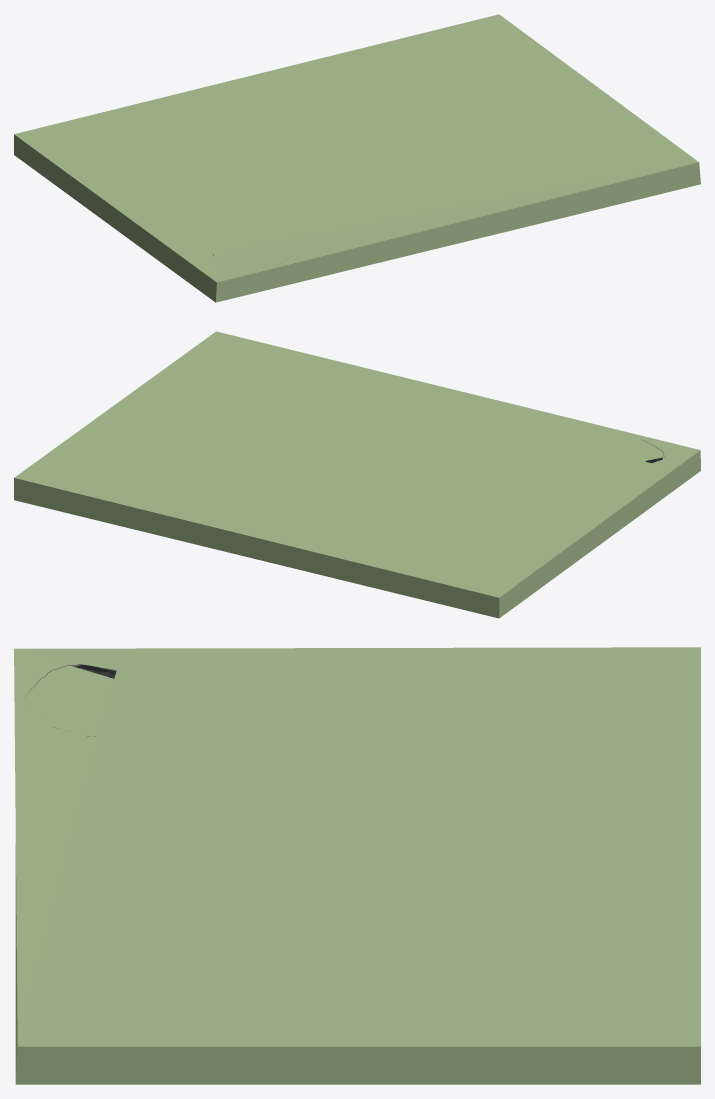
Rendered from map-1.fbx.
The picture shows the model from 3 angles, top to bottom: view 1: azimuth 30°, elevation 25°; view 2: azimuth 150°, elevation 25°; view 3: azimuth 270°, elevation 25°; orthographic projection. The views are drawn at different scales.
Parts seen in each view (by area): view 1: Ground 2; view 2: Ground 2; view 3: Ground 2.
Part boxes in pixels (x1,y1,x2,y2): Ground 2: [14, 14, 700, 302]; Ground 2: [14, 331, 700, 618]; Ground 2: [14, 647, 700, 1084].
Bounding box in the file's own units: 17192 × 1011 × 12411.
